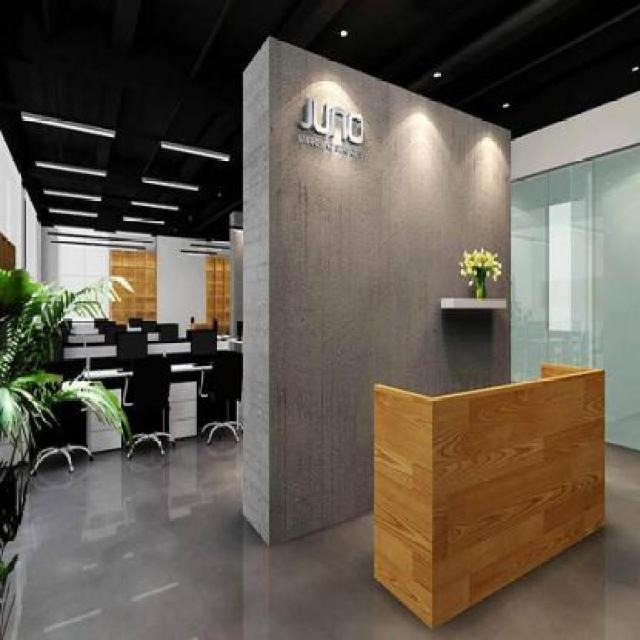frontdesk: (357, 354, 614, 638)
